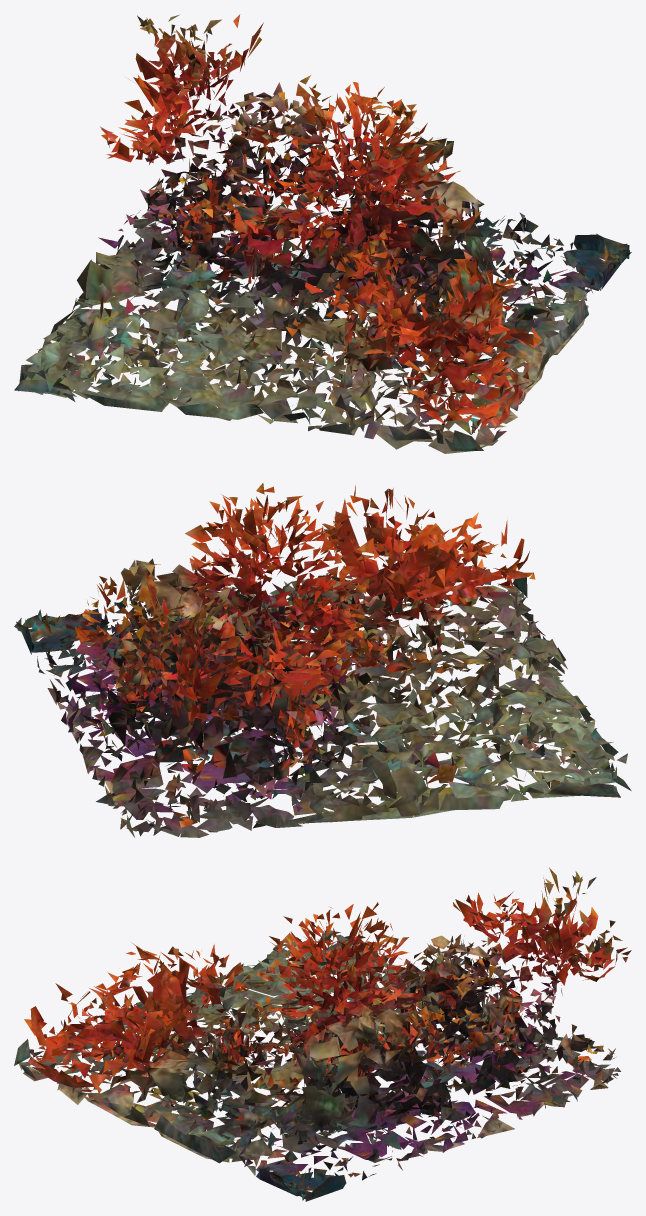
The model's file is coral-aurora.glb.
The picture shows the model from 3 angles, top to bottom: view 1: azimuth 30°, elevation 25°; view 2: azimuth 150°, elevation 25°; view 3: azimuth 270°, elevation 25°; orthographic projection. The views are drawn at different scales.
Visible parts, largest first — view 1: Mesh_0; view 2: Mesh_0; view 3: Mesh_0.
Boxes of the visible parts, x1,y1,x2,y2 form: Mesh_0: (14,14,631,453); Mesh_0: (14,483,631,837); Mesh_0: (14,867,631,1201).
Bounding box in the file's own units: 2.38 × 0.8494 × 2.37.
1 material, 1 textured.
